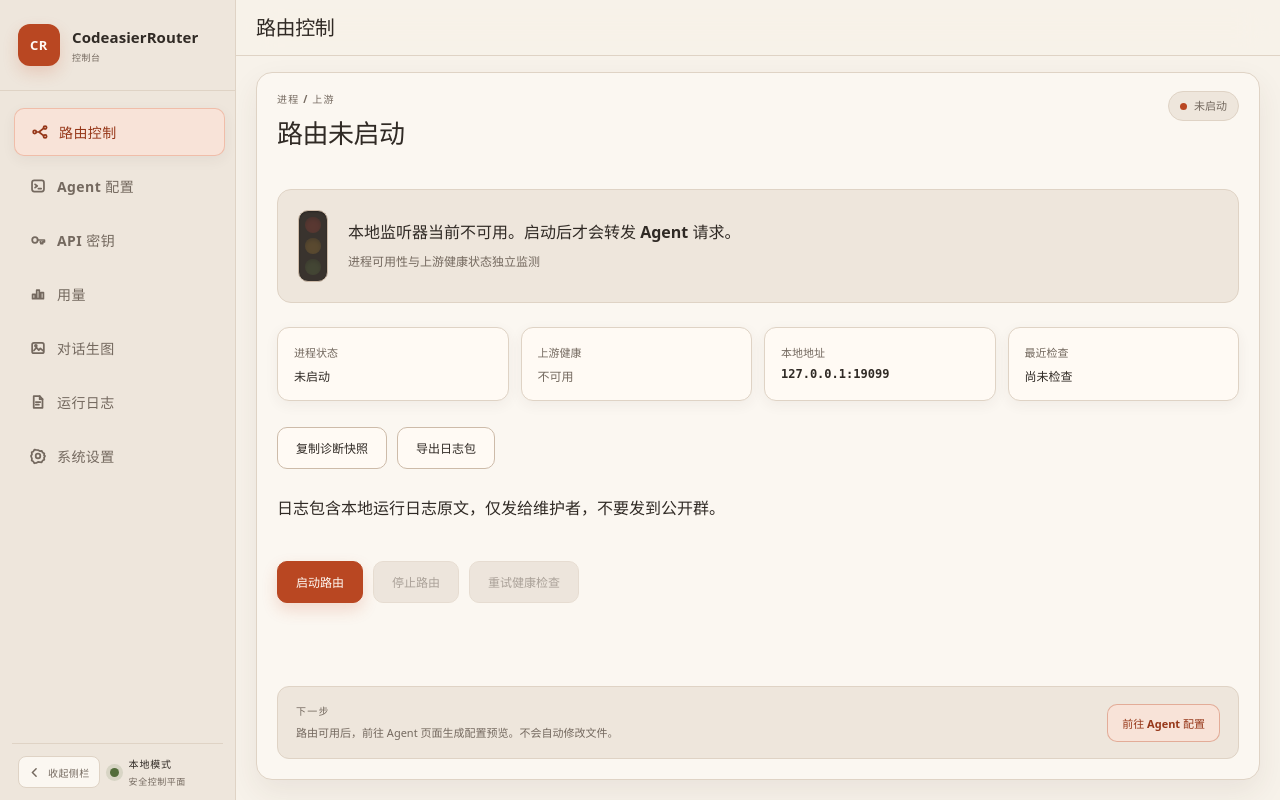
Test: SettingsPage › surfaces a safe load error when settings reads fail
Click the button "系统设置". click: (118, 456)
box: [12,432,223,480]
(page scrolled)
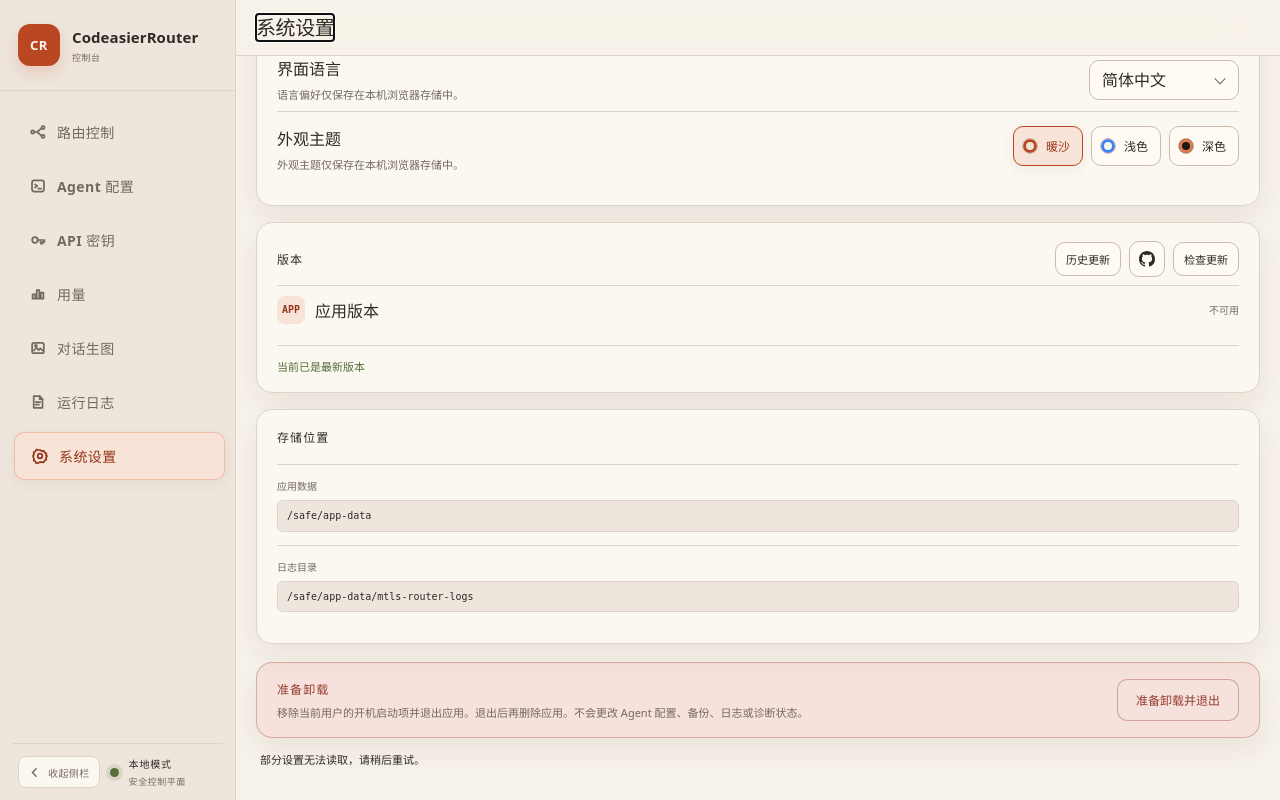
Expected: the text "部分设置无法读取，请稍后重试。" is shown, [260,752,425,767]
